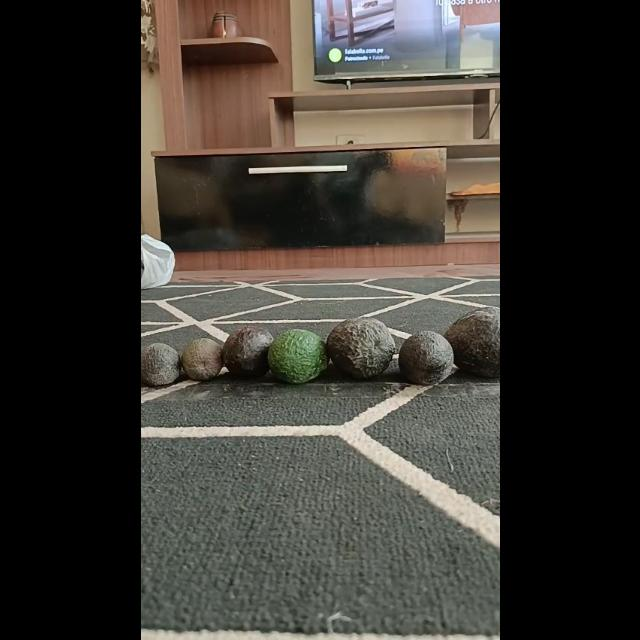Primera: (325, 316, 395, 378), (444, 307, 500, 377)
Segunda: (266, 329, 326, 383), (398, 330, 454, 384), (220, 324, 274, 378)
Tercera: (180, 338, 224, 380), (140, 343, 180, 387)
